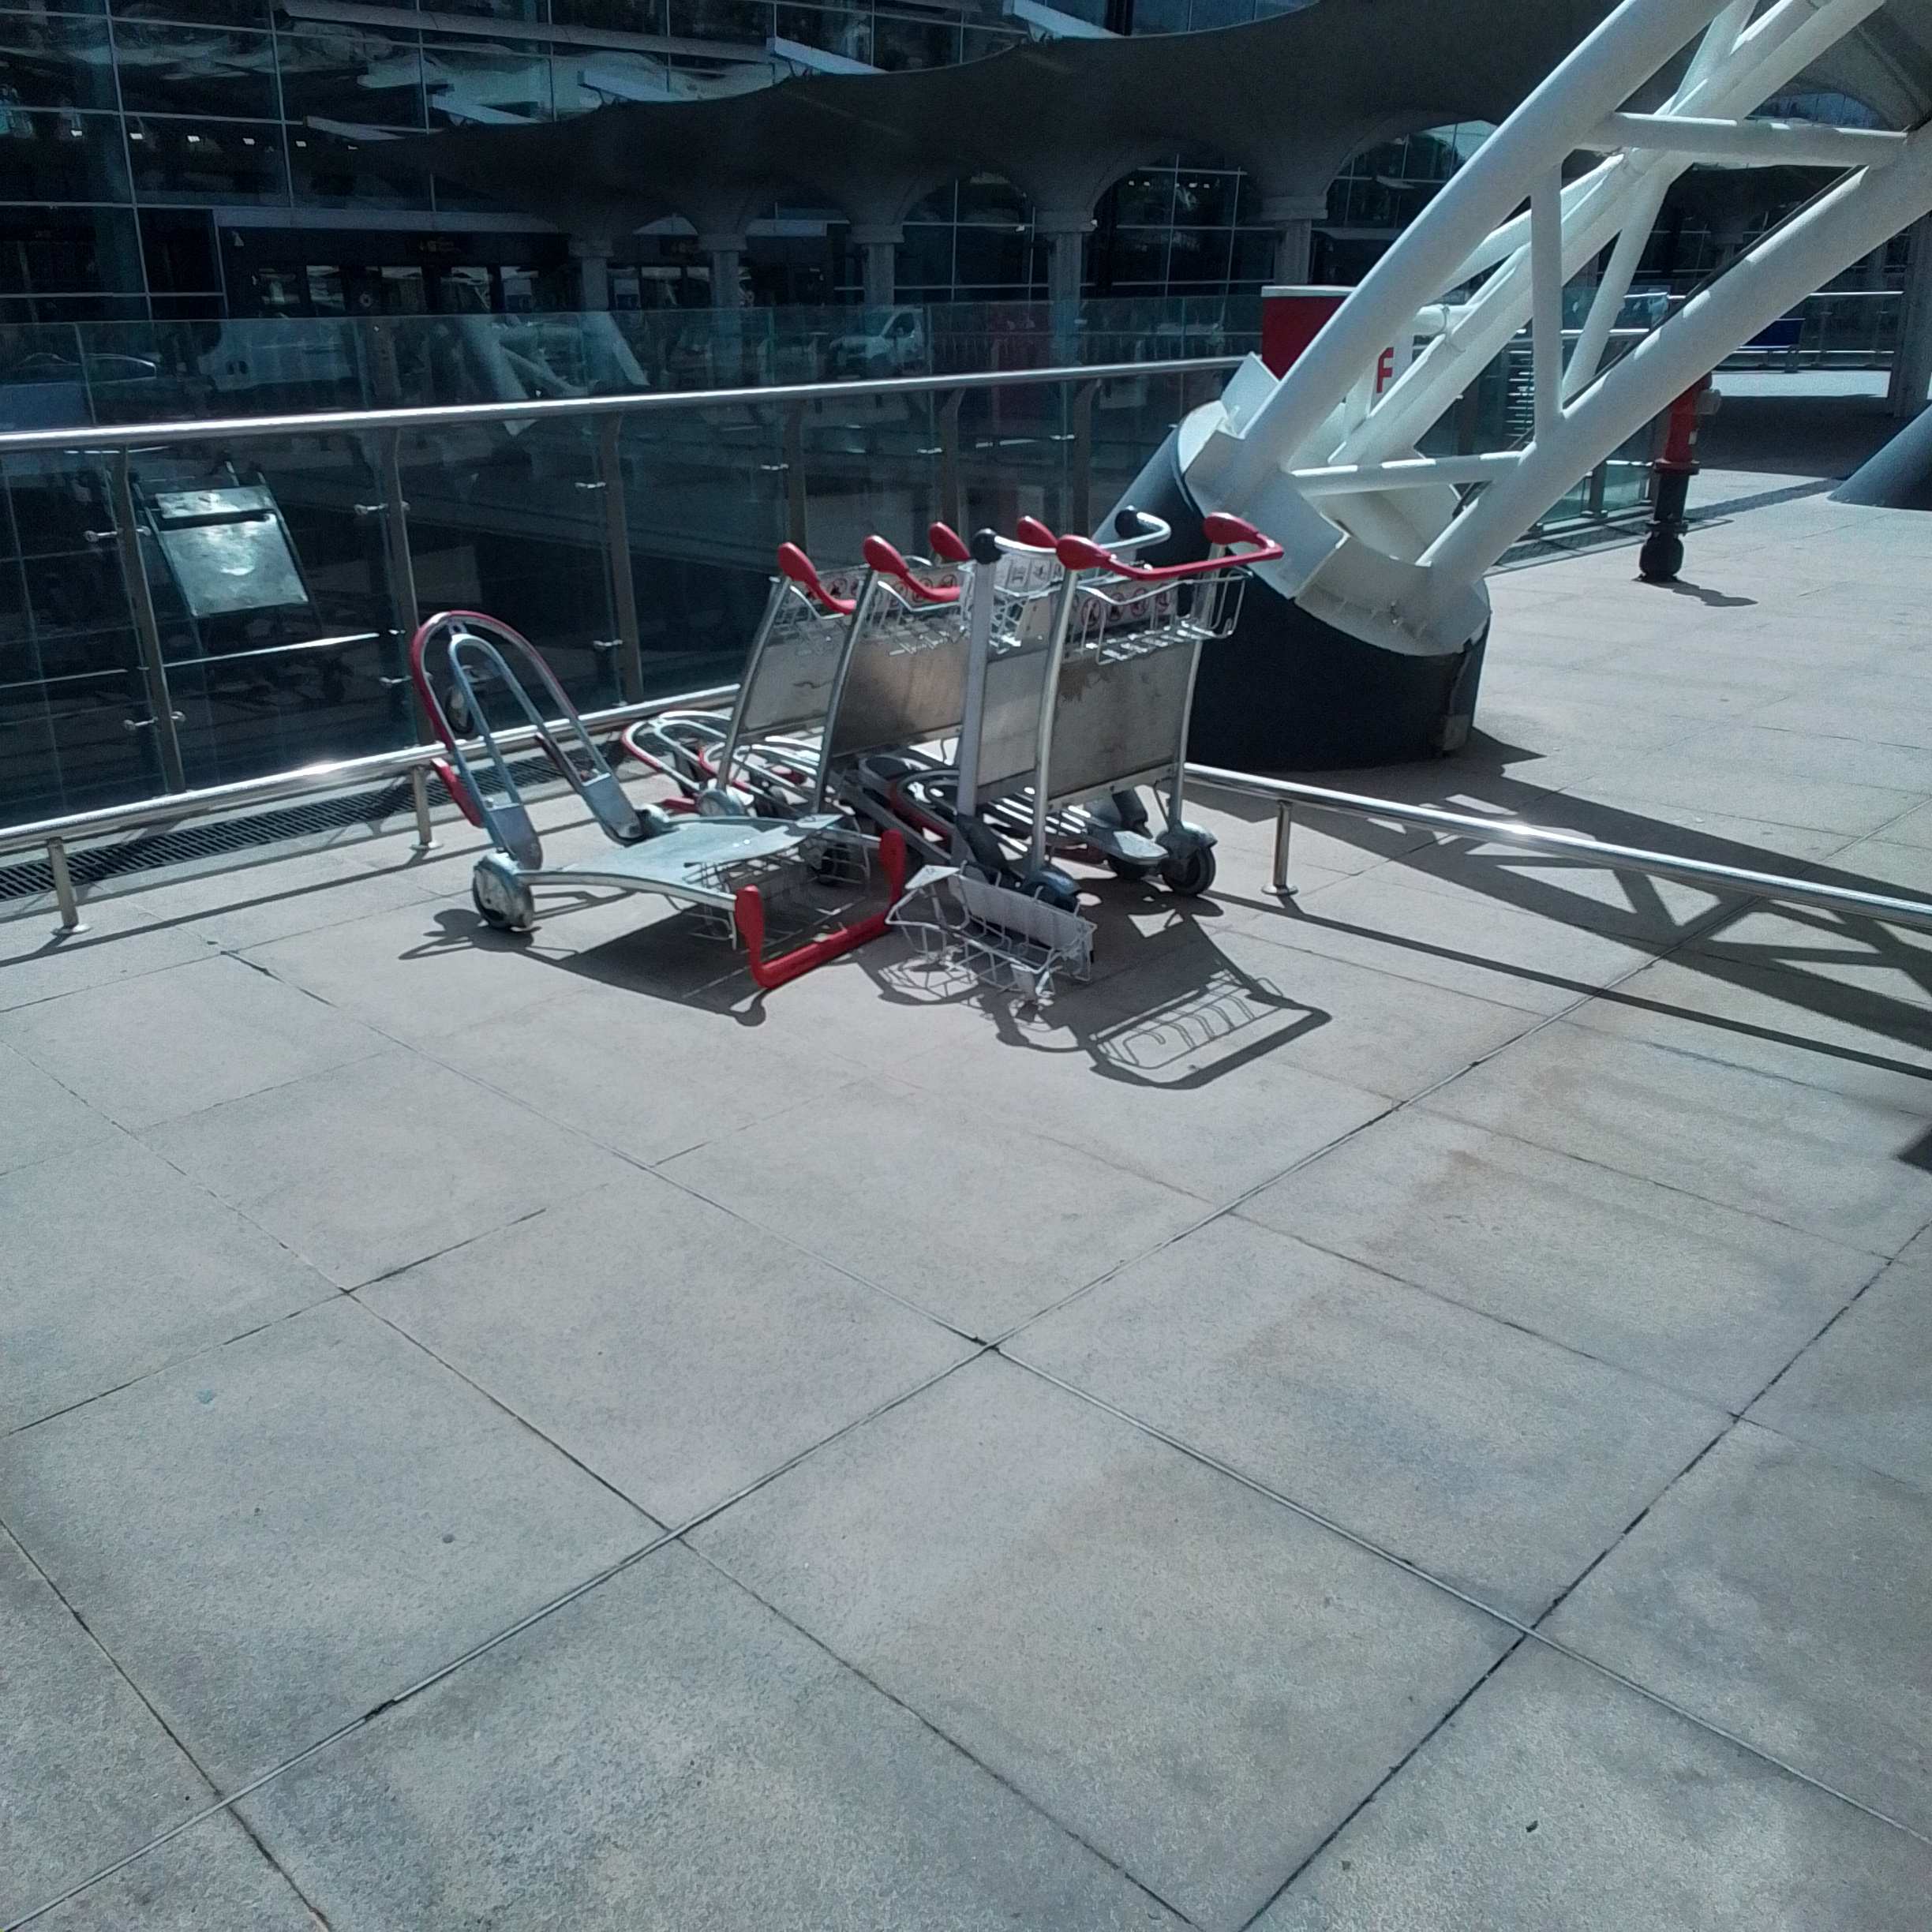airport-trolley: (377, 614, 947, 1003), (1046, 518, 1297, 985), (635, 518, 911, 920), (964, 501, 1189, 977), (821, 536, 1042, 916)
